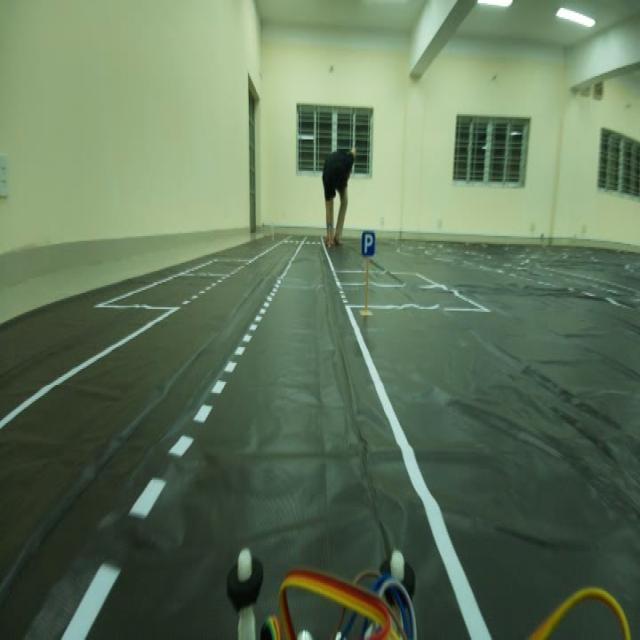parking: (357, 224, 378, 267)
